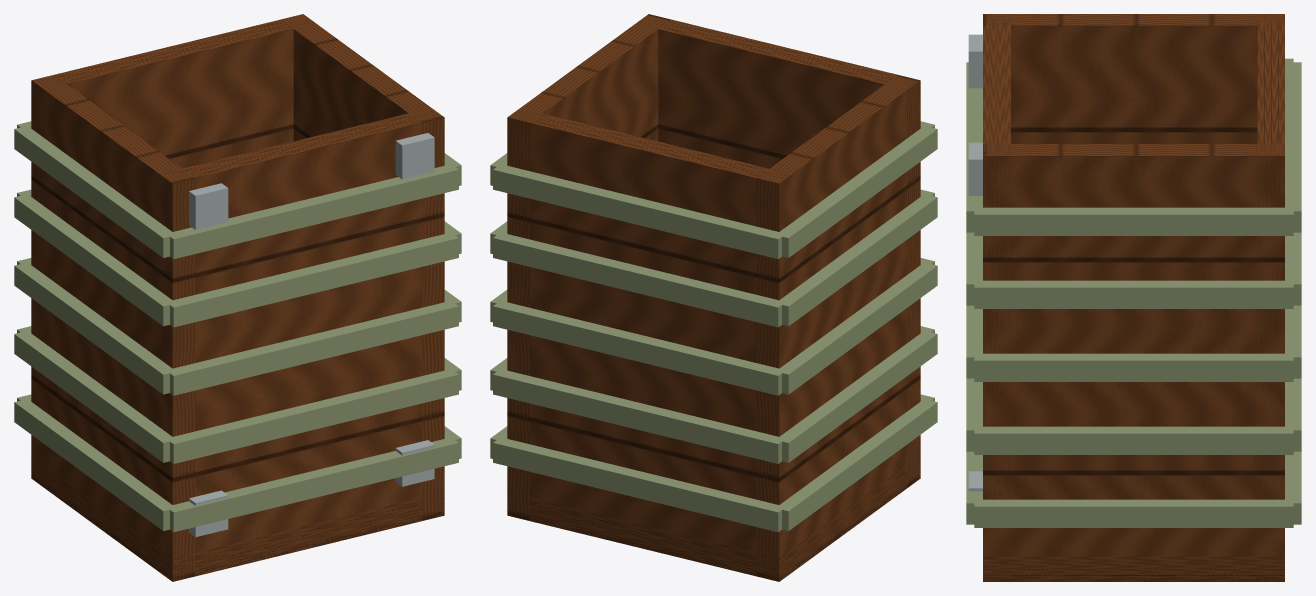
File: suburban-outbreak-interiors-bathroom-laundry-hamper-0cf0a67a__19930.glb
3 views of the same model, side by side, from view 1: azimuth 30°, elevation 25°; view 2: azimuth 150°, elevation 25°; view 3: azimuth 270°, elevation 25° (orthographic). The views are drawn at different scales.
Parts seen in each view (by area): view 1: bathroom-laundry-hamper; view 2: bathroom-laundry-hamper; view 3: bathroom-laundry-hamper.
Boxes of the visible parts, x1,y1,x2,y2 form: bathroom-laundry-hamper: [14, 14, 461, 581]; bathroom-laundry-hamper: [490, 14, 937, 581]; bathroom-laundry-hamper: [966, 14, 1301, 581].
Bounding box in the file's own units: 0.549 × 0.7 × 0.499.
Materials: 3 (1 with a texture image).
